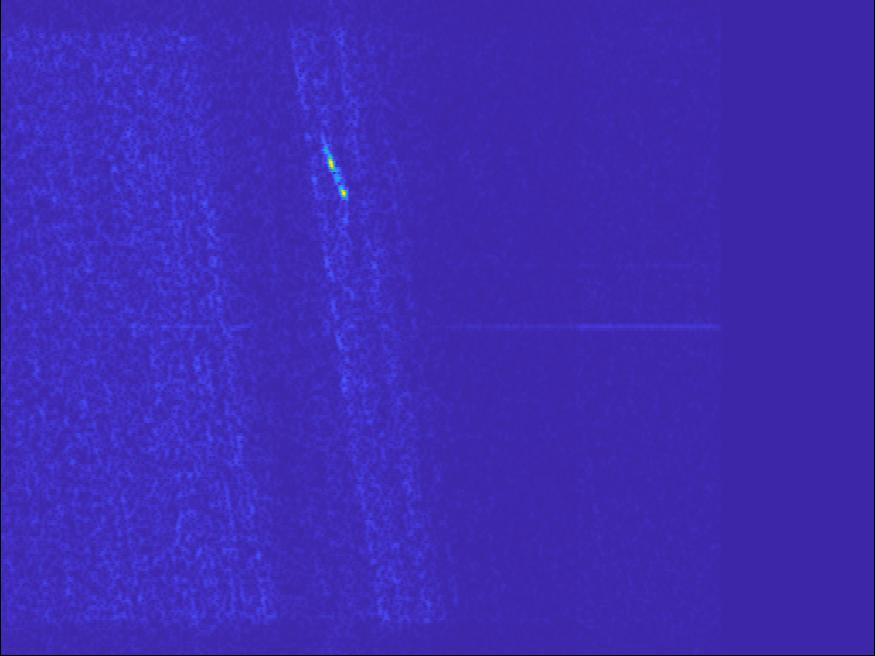Interference: (542, 310, 668, 361), (320, 283, 428, 323)
